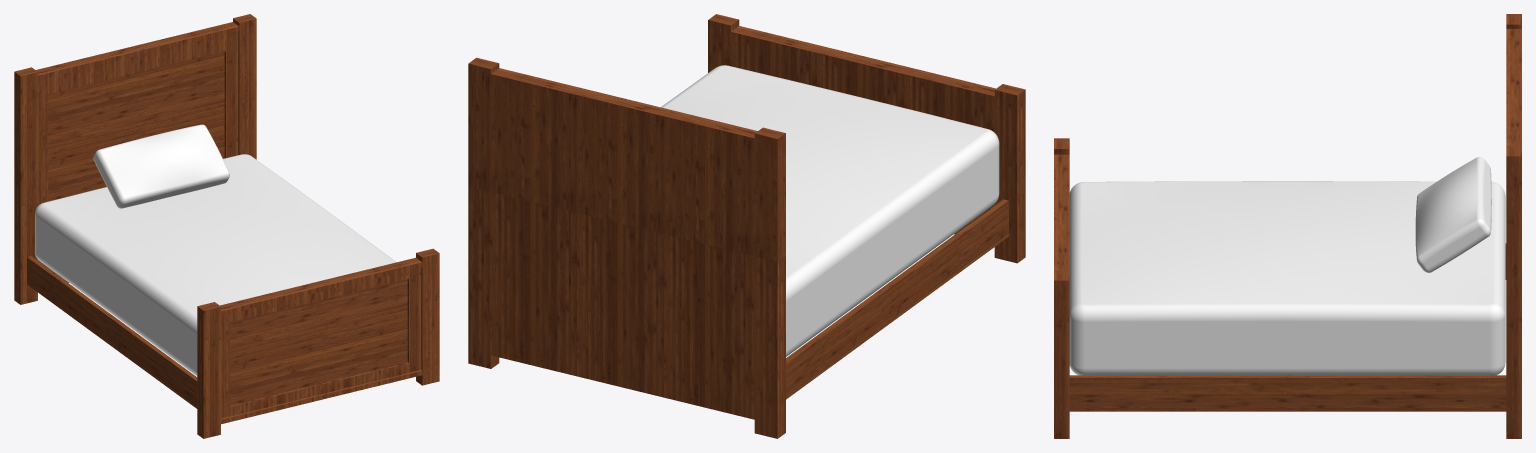
Rendered from Bed 2.fbx.
The picture shows the model from 3 angles, left to right: view 1: azimuth 30°, elevation 25°; view 2: azimuth 150°, elevation 25°; view 3: azimuth 270°, elevation 25°; orthographic projection. The views are drawn at different scales.
Parts seen in each view (by area): view 1: Fillet, Solid_Addition_2, Solid_Addition, Fillet_2, Extrude; view 2: Solid_Addition_2, Fillet, Solid_Addition, Extrude; view 3: Fillet, Extrude_2, Solid_Addition_2, Fillet_2, Solid_Addition.
Part boxes in pixels (<box>): Fillet: <box>35,154,396,376</box>; Solid_Addition_2: <box>14,14,256,304</box>; Solid_Addition: <box>197,248,439,438</box>; Fillet_2: <box>93,124,229,208</box>; Extrude: <box>27,256,197,408</box>; Solid_Addition_2: <box>468,57,785,438</box>; Fillet: <box>661,65,999,356</box>; Solid_Addition: <box>708,14,1025,263</box>; Extrude: <box>786,199,1008,399</box>; Fillet: <box>1069,181,1505,375</box>; Extrude_2: <box>1069,375,1506,411</box>; Solid_Addition_2: <box>1506,14,1521,438</box>; Fillet_2: <box>1415,157,1491,272</box>; Solid_Addition: <box>1054,138,1069,438</box>.
Bounding box in the file's own units: 1372 × 1270 × 1905.
Materials: 2 (1 with a texture image).
